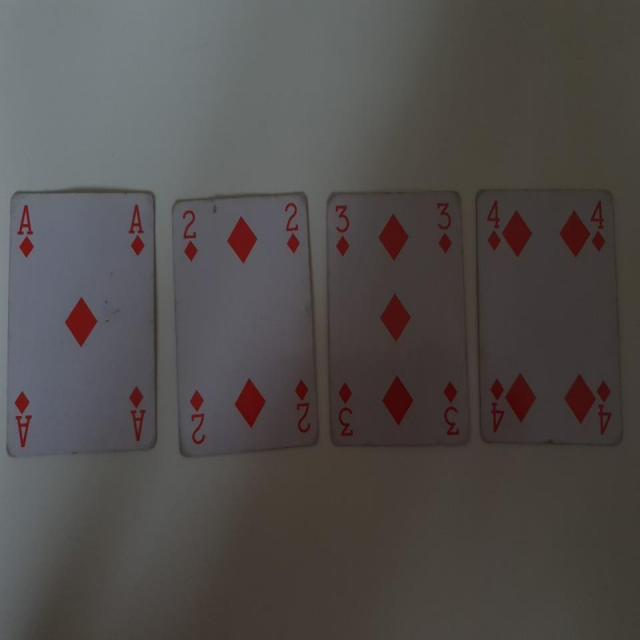2 Diamonds: (171, 182, 322, 457)
3 Diamonds: (320, 186, 472, 444)
4 Diamonds: (474, 183, 625, 449)
A Diamonds: (3, 183, 158, 464)
